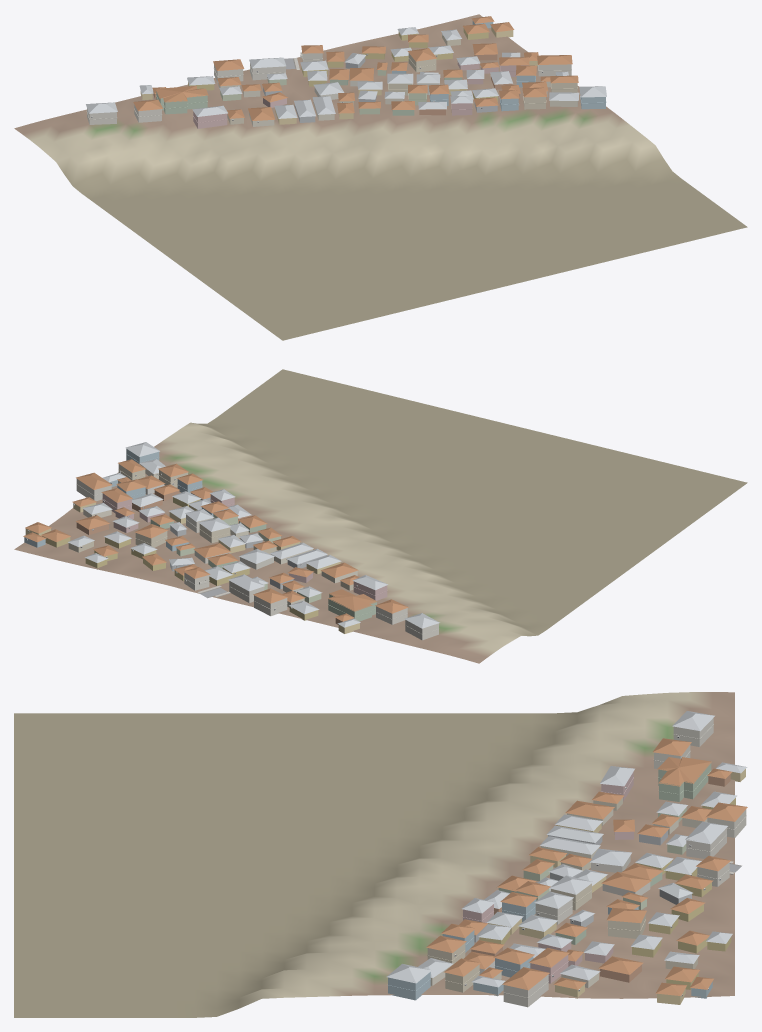
3 views of the same model, one above another, from view 1: azimuth 30°, elevation 25°; view 2: azimuth 150°, elevation 25°; view 3: azimuth 270°, elevation 25° (orthographic). The views are drawn at different scales.
Parts seen in each view (by area): view 1: Terrain-col, Buildings-col, Details; view 2: Terrain-col, Buildings-col, Details; view 3: Terrain-col, Buildings-col, Details.
Part boxes in pixels (left/top/right/bottom): Terrain-col: left=14, top=14, right=747, bottom=340; Buildings-col: left=86, top=16, right=606, bottom=128; Details: left=86, top=34, right=606, bottom=122; Terrain-col: left=14, top=369, right=747, bottom=663; Buildings-col: left=23, top=442, right=439, bottom=640; Details: left=26, top=454, right=438, bottom=634; Terrain-col: left=14, top=692, right=734, bottom=1017; Buildings-col: left=386, top=711, right=747, bottom=1007; Details: left=387, top=724, right=746, bottom=998.
Bounding box in the file's own units: 265 × 18.25 × 261.
